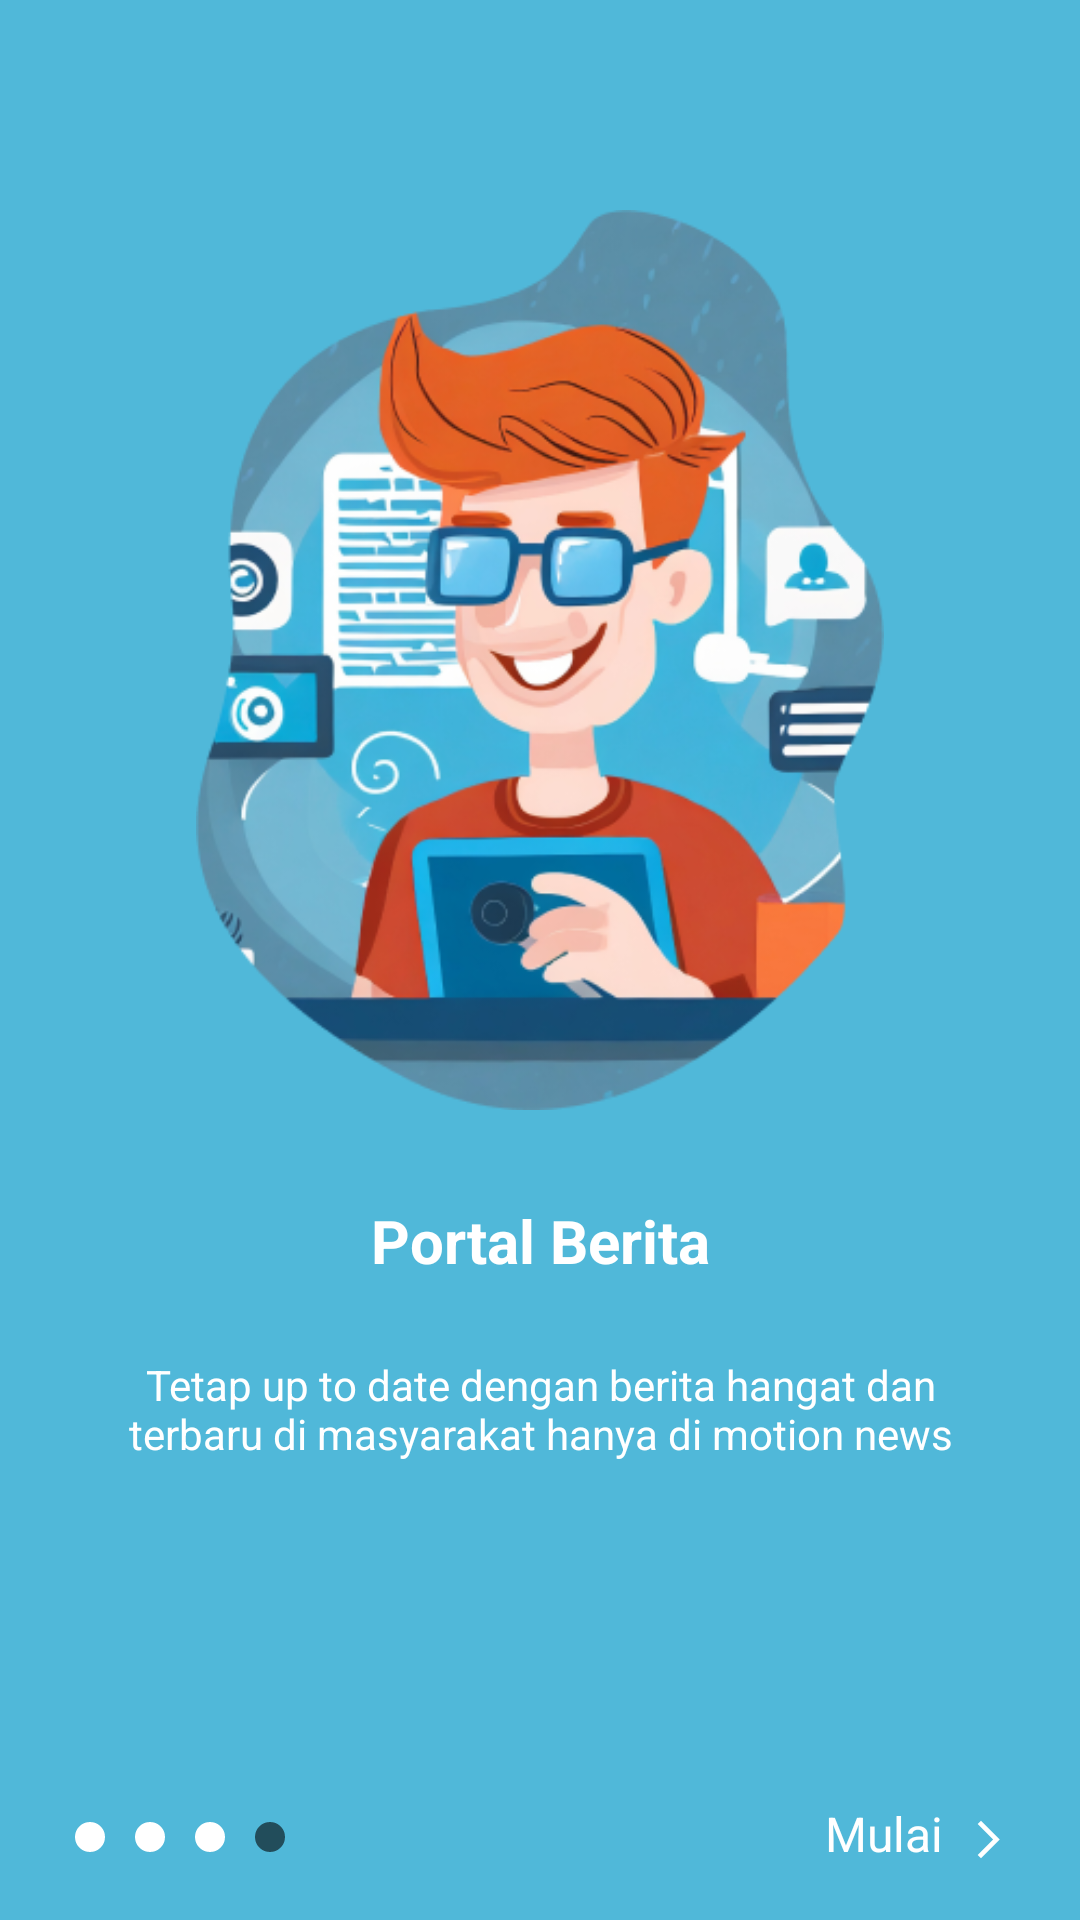

Screen size 1080w x 1920h. Icon name, then its box in pixels as (x1, y1, x2, y2):
cont: (978, 1821, 1000, 1858)
